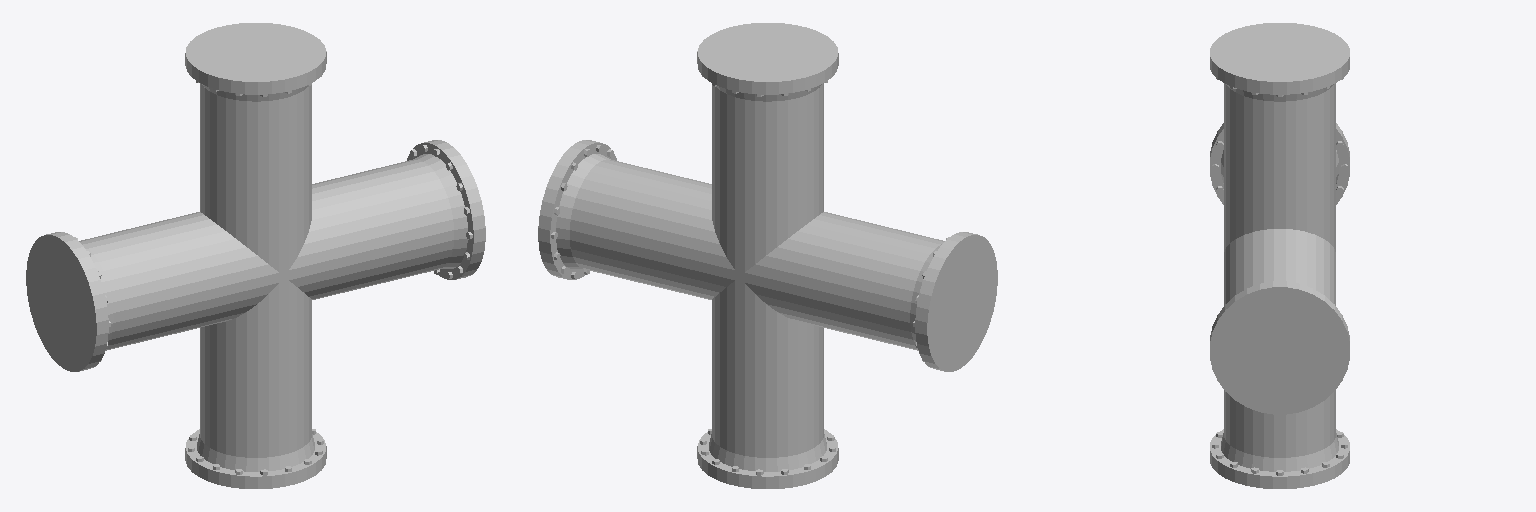
File: pipeworks_pipe_8.obj
3 renders of one model, left to right at view 1: azimuth 30°, elevation 25°; view 2: azimuth 150°, elevation 25°; view 3: azimuth 270°, elevation 25°, orthographic.
Parts seen in each view (by area): view 1: Pipe_Cylinder.002; view 2: Pipe_Cylinder.002; view 3: Pipe_Cylinder.002.
Boxes of the visible parts, box(x1,y1,x2,y2) form: Pipe_Cylinder.002: box(26, 23, 485, 488); Pipe_Cylinder.002: box(538, 23, 997, 488); Pipe_Cylinder.002: box(1210, 23, 1349, 488).
Size of the model in its own units: 1 by 1 by 0.3125.